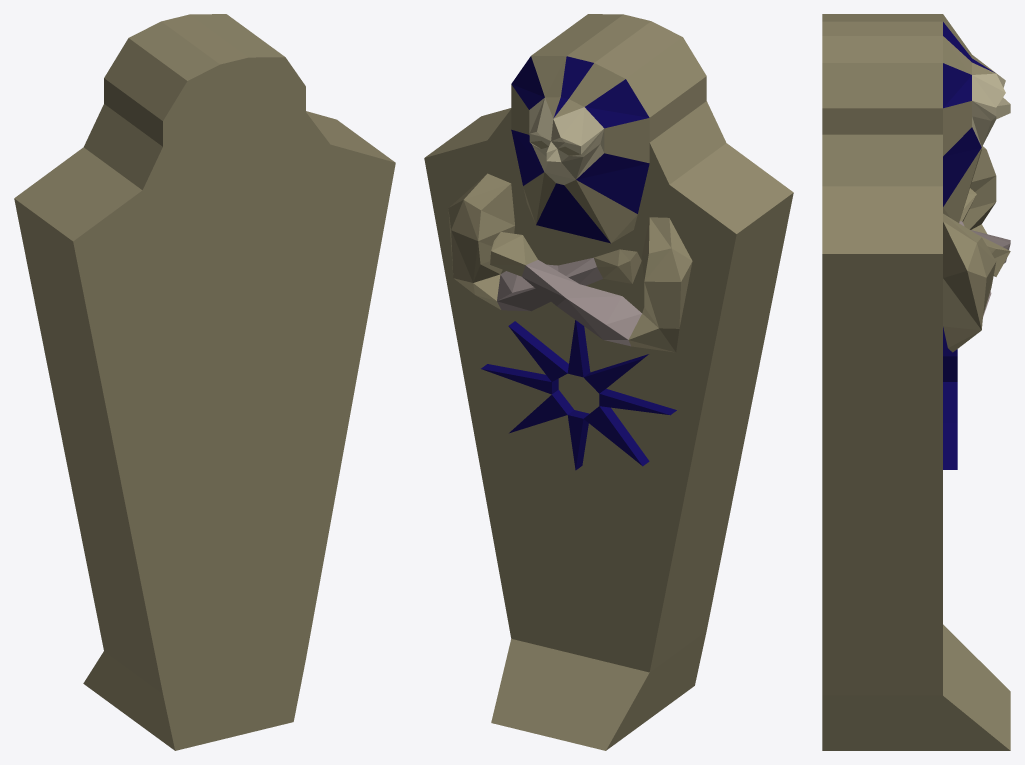
File: obj_coffin_3_0.obj
3 renders of one model, left to right at view 1: azimuth 30°, elevation 25°; view 2: azimuth 150°, elevation 25°; view 3: azimuth 270°, elevation 25°, orthographic. The views are drawn at different scales.
Bounding box in the file's own units: 0.6172 × 1.23 × 0.3047.
